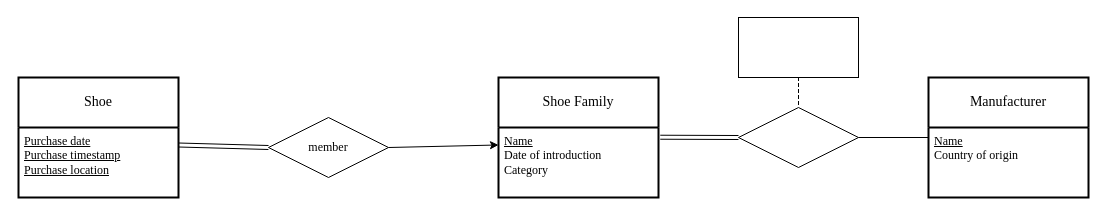
The diagram is 1106 pixels wide and 216 high, and some of its shapes have lost their labels. Here are the shapes that lost their labels. From the top down, the centre of each, then its label:
At [798,47]: "start date of manufacturing".
At [798,137]: "contract".
